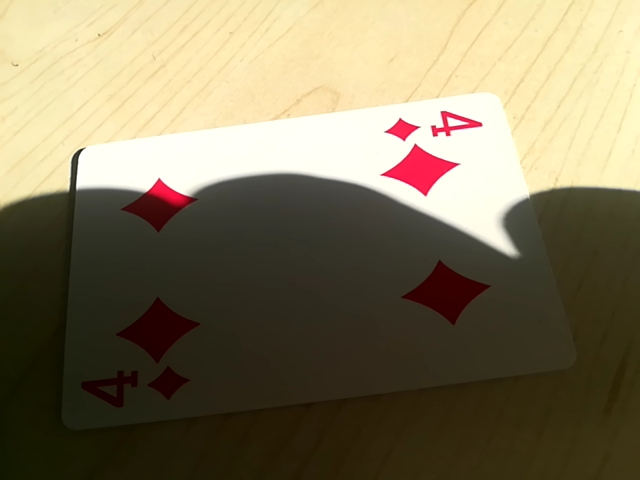fk 4: (73, 357, 192, 425), (381, 105, 487, 144)
